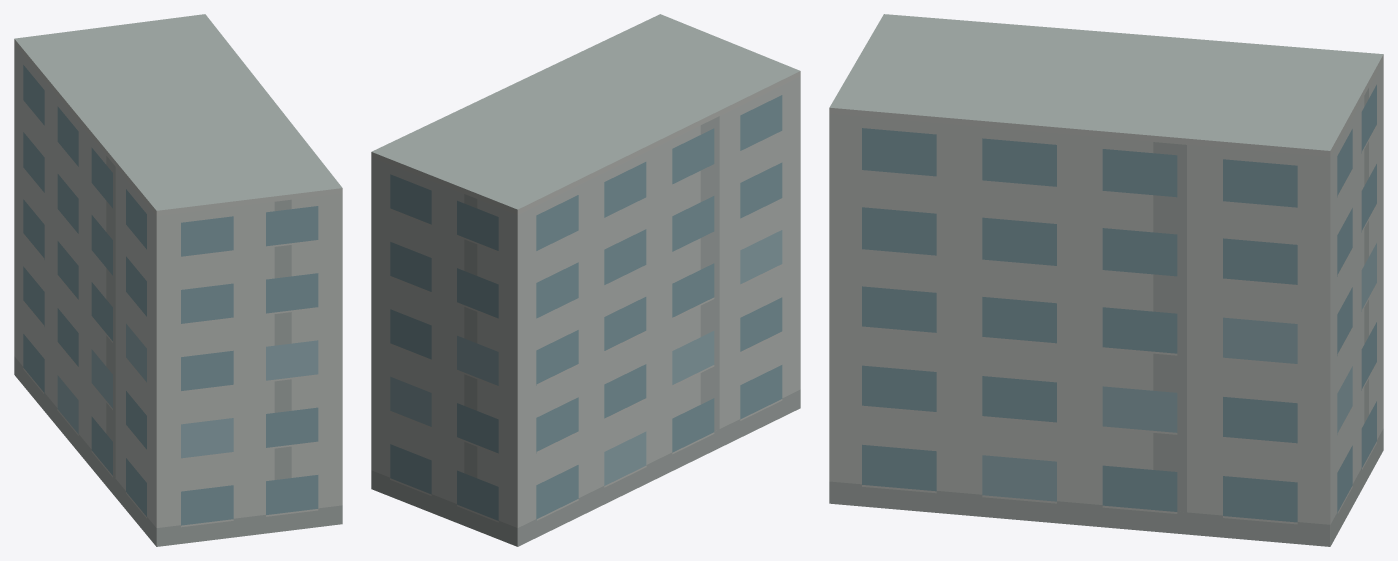
The model's file is residential-5ea8cec4-b28b-47ea-a870-e53395720aaf.glb.
3 renders of one model, left to right at view 1: azimuth 30°, elevation 25°; view 2: azimuth 150°, elevation 25°; view 3: azimuth 270°, elevation 25°, orthographic. The views are drawn at different scales.
Parts seen in each view (by area): view 1: residential-5ea8cec4-b28b-47ea-a870-e53395720aaf.tmp; view 2: residential-5ea8cec4-b28b-47ea-a870-e53395720aaf.tmp; view 3: residential-5ea8cec4-b28b-47ea-a870-e53395720aaf.tmp.
Part boxes in pixels (x1,y1,x2,y2): residential-5ea8cec4-b28b-47ea-a870-e53395720aaf.tmp: (14,14,342,546); residential-5ea8cec4-b28b-47ea-a870-e53395720aaf.tmp: (371,14,800,546); residential-5ea8cec4-b28b-47ea-a870-e53395720aaf.tmp: (829,14,1383,546).
Bounding box in the file's own units: 11.32 × 15.25 × 19.36.
